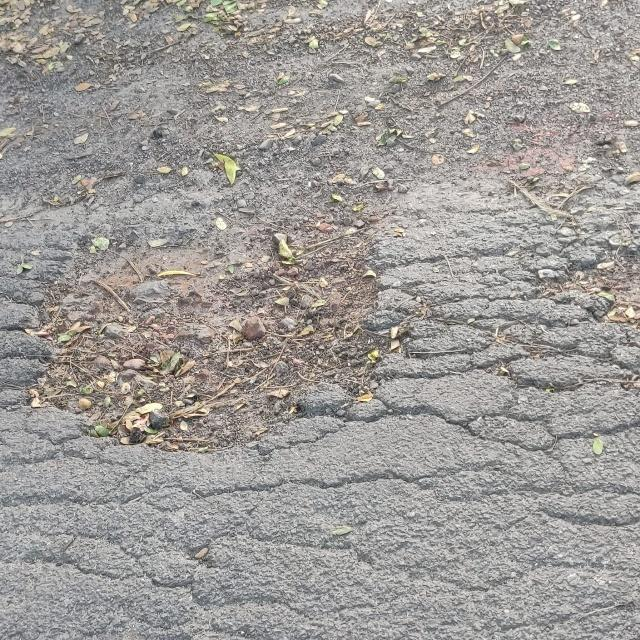Surface Erosion: (21, 24, 640, 585)
